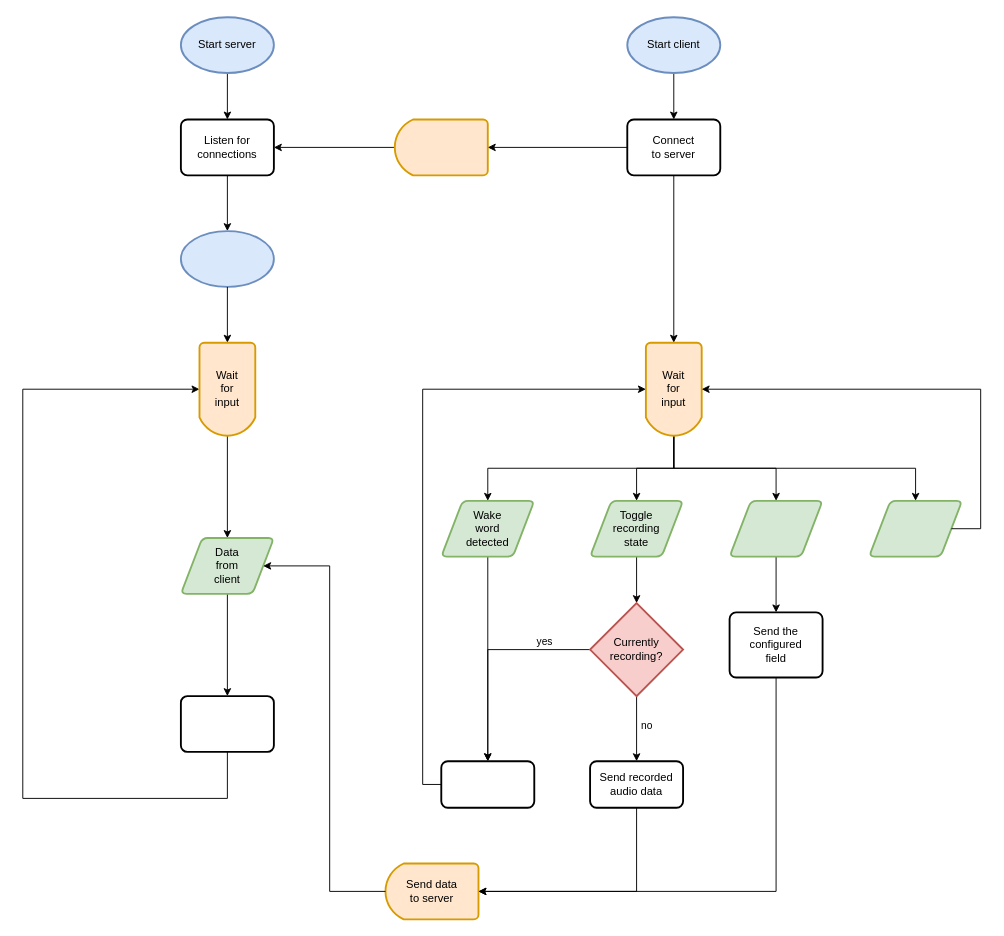
Some shapes in this 1004 by 936 pixel diagram are drawn without their labels. The shapes that lost their labels are listed below. From the top down, each one's box as (x1, y1, x2, y2) in pixels, then its label:
(393, 118, 488, 176): Connection
(179, 230, 274, 287): Start event loop
(728, 499, 823, 557): Config
(868, 499, 963, 557): Toggle wake word
(179, 695, 274, 752): Process the data
(440, 760, 535, 808): Start the recording
